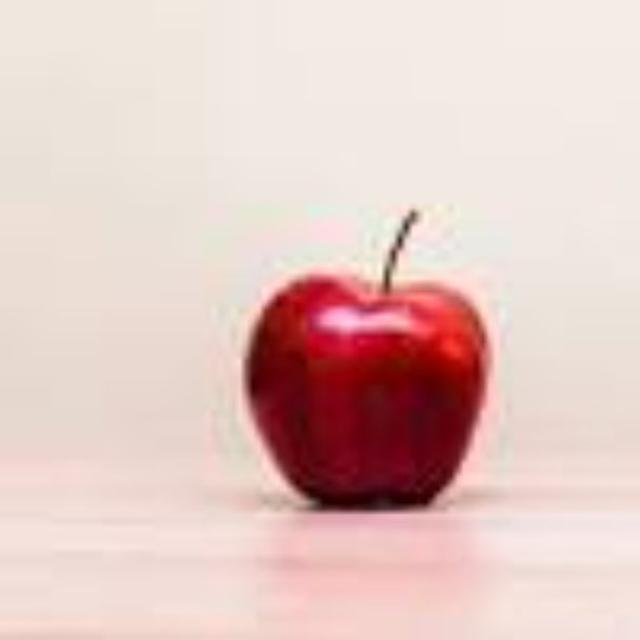Healty Apple: (224, 232, 528, 523)
